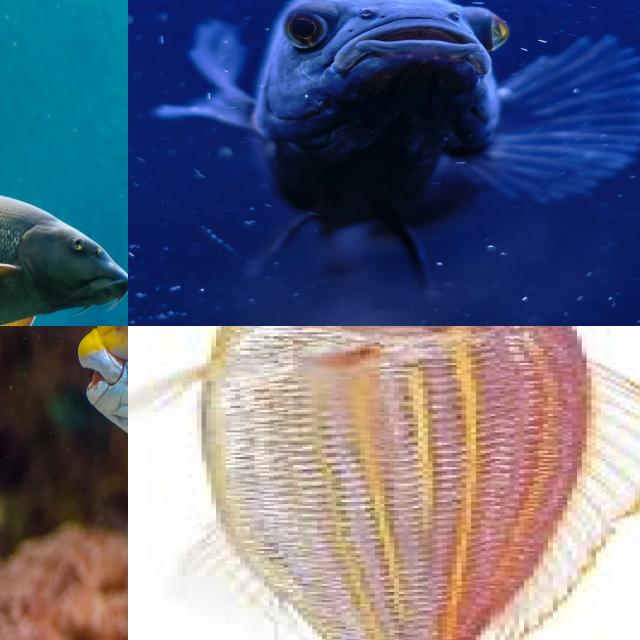fish: (154, 6, 534, 210), (0, 0, 128, 326), (128, 528, 500, 640), (30, 326, 128, 625)
